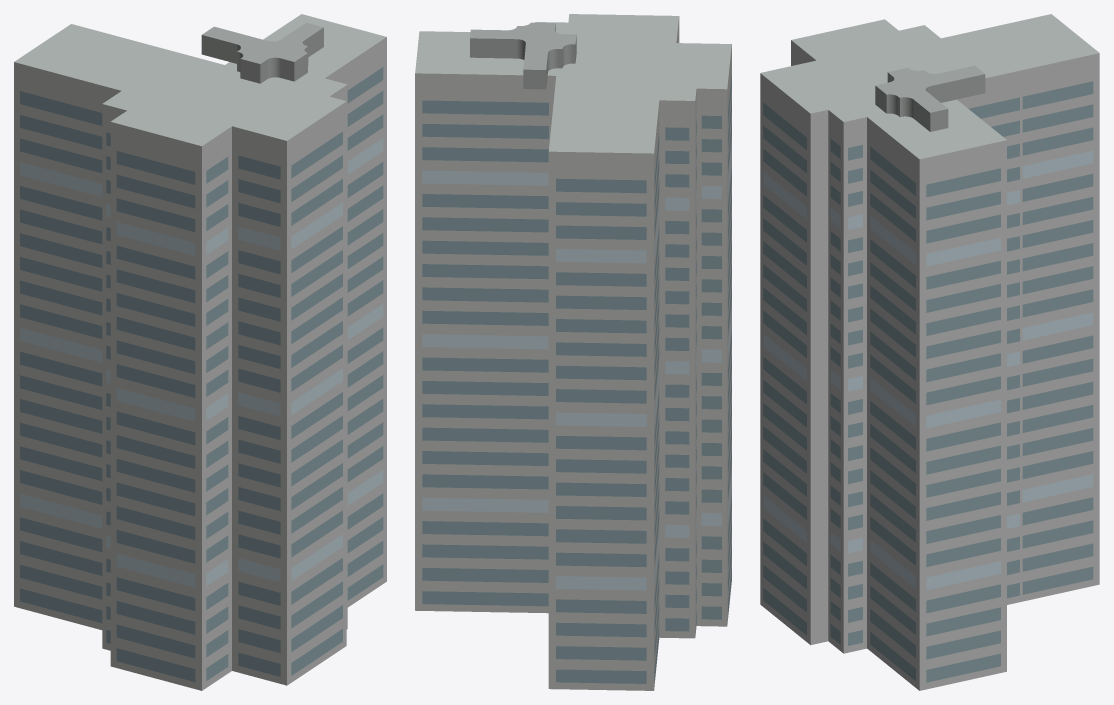
Rendered from fallback-dmc-raemian-e-pyeonhansesang-207.glb.
The picture shows the model from 3 angles, left to right: view 1: azimuth 30°, elevation 25°; view 2: azimuth 150°, elevation 25°; view 3: azimuth 270°, elevation 25°; orthographic projection. The views are drawn at different scales.
Parts seen in each view (by area): view 1: fallback-dmc-raemian-e-pyeonhansesang-207; view 2: fallback-dmc-raemian-e-pyeonhansesang-207; view 3: fallback-dmc-raemian-e-pyeonhansesang-207.
Part boxes in pixels (box(x1,y1,x2,y2)): fallback-dmc-raemian-e-pyeonhansesang-207: box(14, 14, 386, 690); fallback-dmc-raemian-e-pyeonhansesang-207: box(415, 14, 731, 690); fallback-dmc-raemian-e-pyeonhansesang-207: box(760, 14, 1099, 690).
Bounding box in the file's own units: 39.09 × 69 × 38.56.
